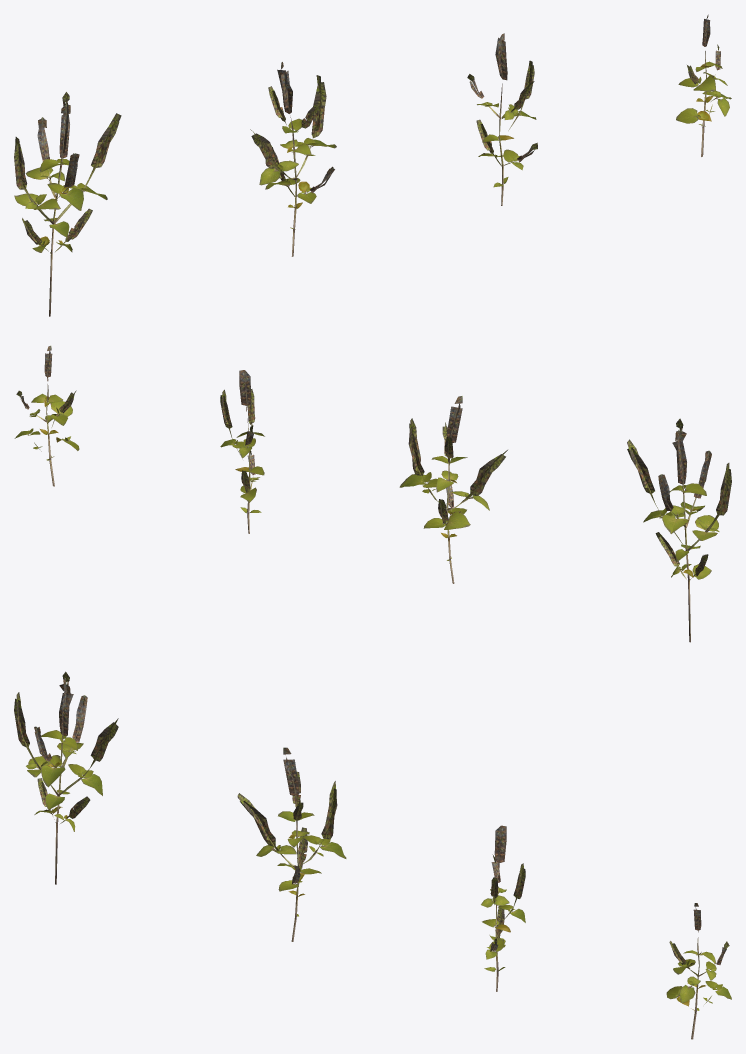
Rendered from shrub_03.glb.
3 renders of one model, top to bottom at view 1: azimuth 30°, elevation 25°; view 2: azimuth 150°, elevation 25°; view 3: azimuth 330°, elevation 25°, orthographic. The views are drawn at different scales.
Parts seen in each view (by area): view 1: shrub_03; view 2: shrub_03; view 3: shrub_03.
Part boxes in pixels (x1,y1,x2,y2): shrub_03: (14, 14, 731, 316); shrub_03: (14, 345, 731, 642); shrub_03: (14, 671, 731, 1039).
Bounding box in the file's own units: 2.71 × 0.8 × 0.3002.
Materials: 1 (1 with a texture image).
